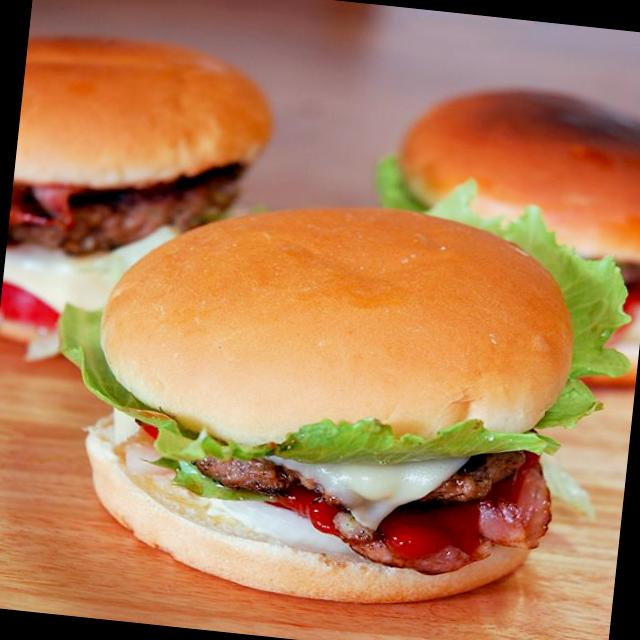Hamburger: (49, 167, 615, 633)
